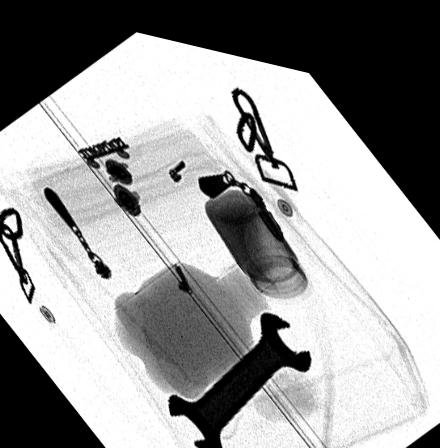Wrench: (167, 298, 310, 448)
